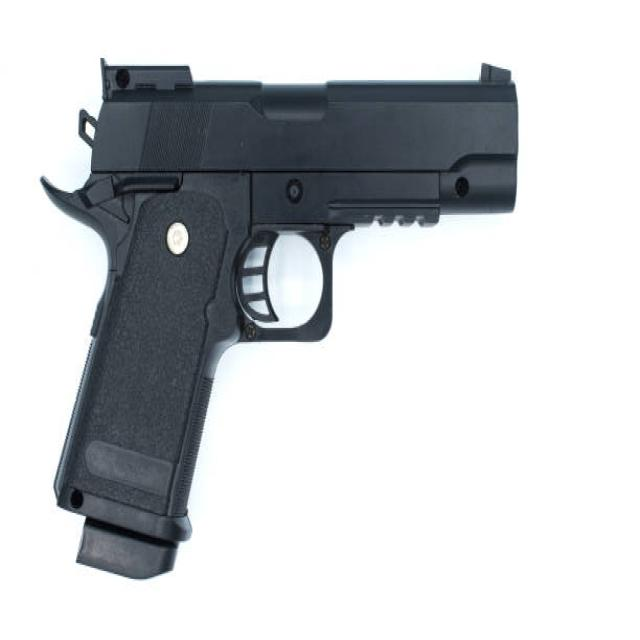pistol: (36, 46, 527, 593)
